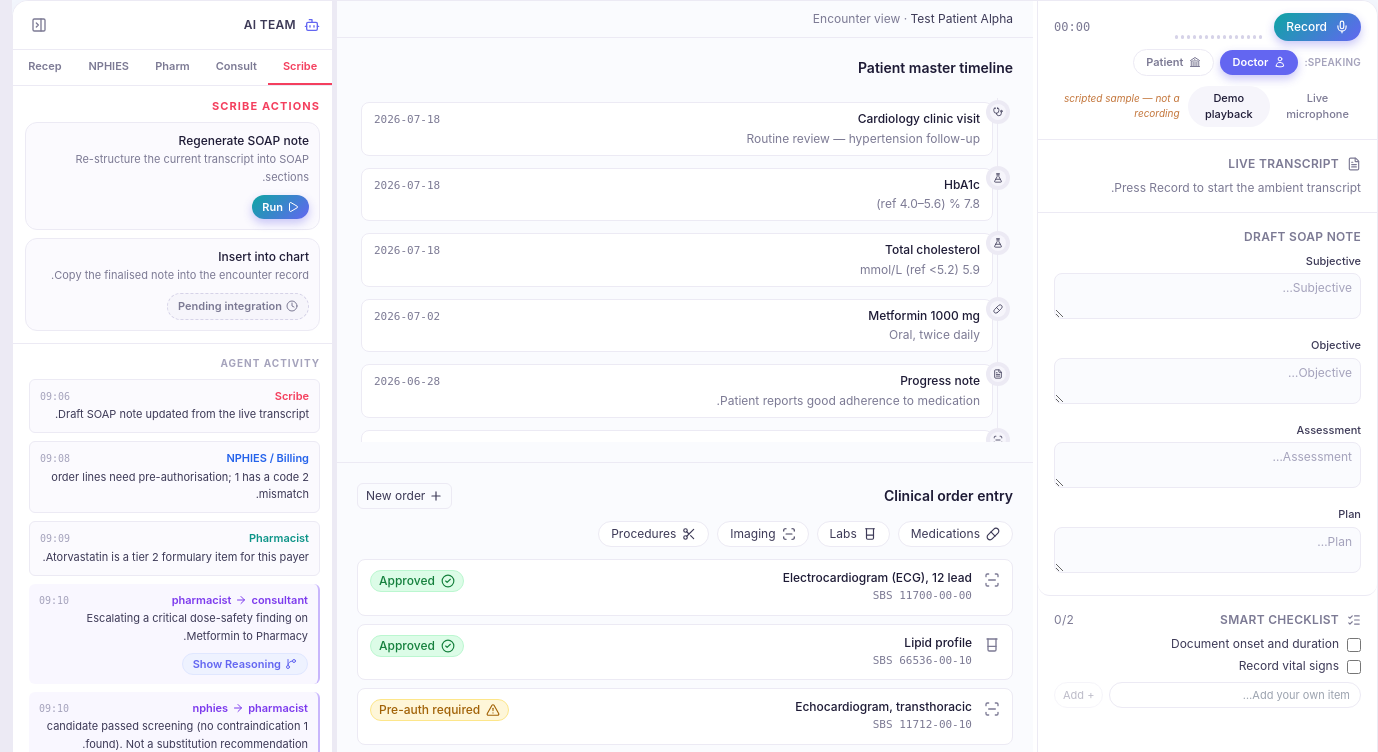
Scenario: Inter-agent handoffs (Sprint 10) › shows the Receptionist post-care drafts in its own tab
Click the tab with aria-label "Receptionist": (45, 67) x1=13 y1=50 x2=77 y2=84
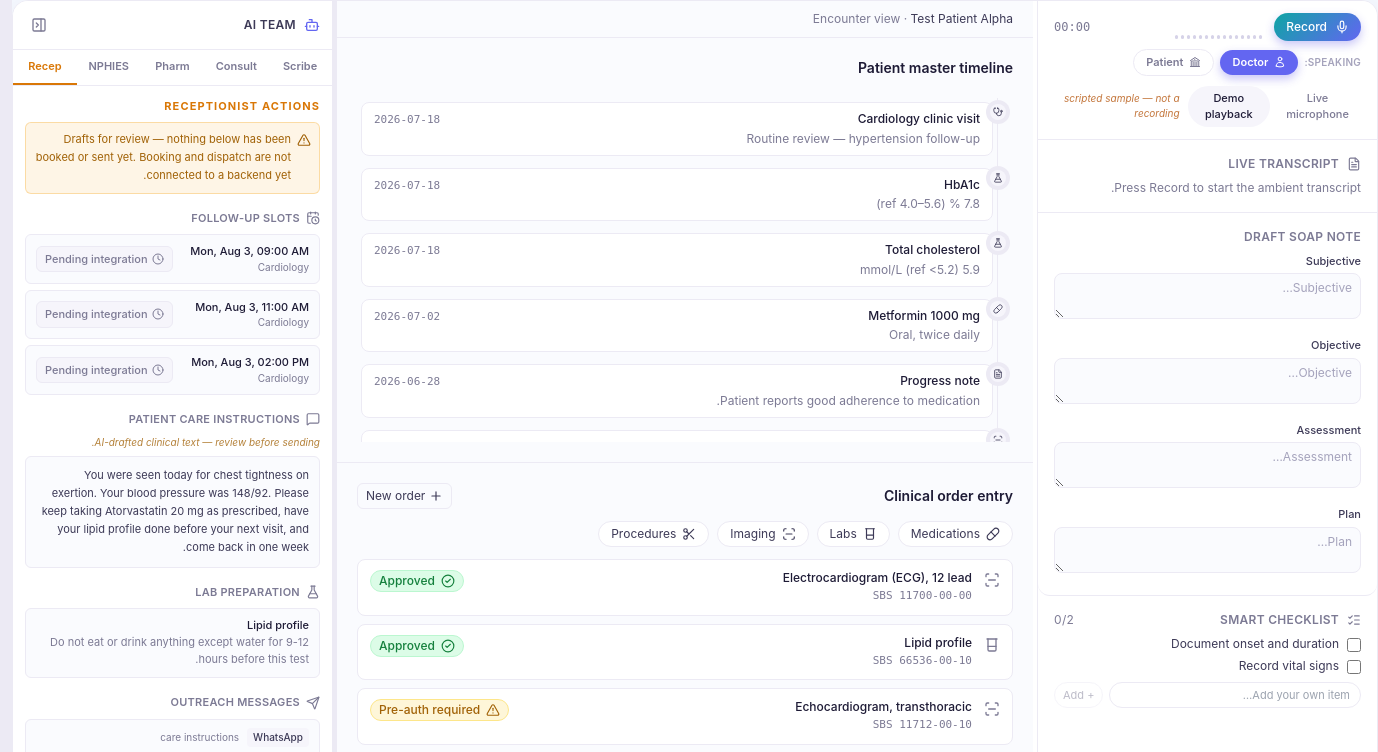
Now the text "nothing below has been booked or sent" is shown, box x1=36 y1=132 x2=291 y2=182
Now the text with test id "care-instructions" is shown, box x1=25 y1=456 x2=320 y2=568
